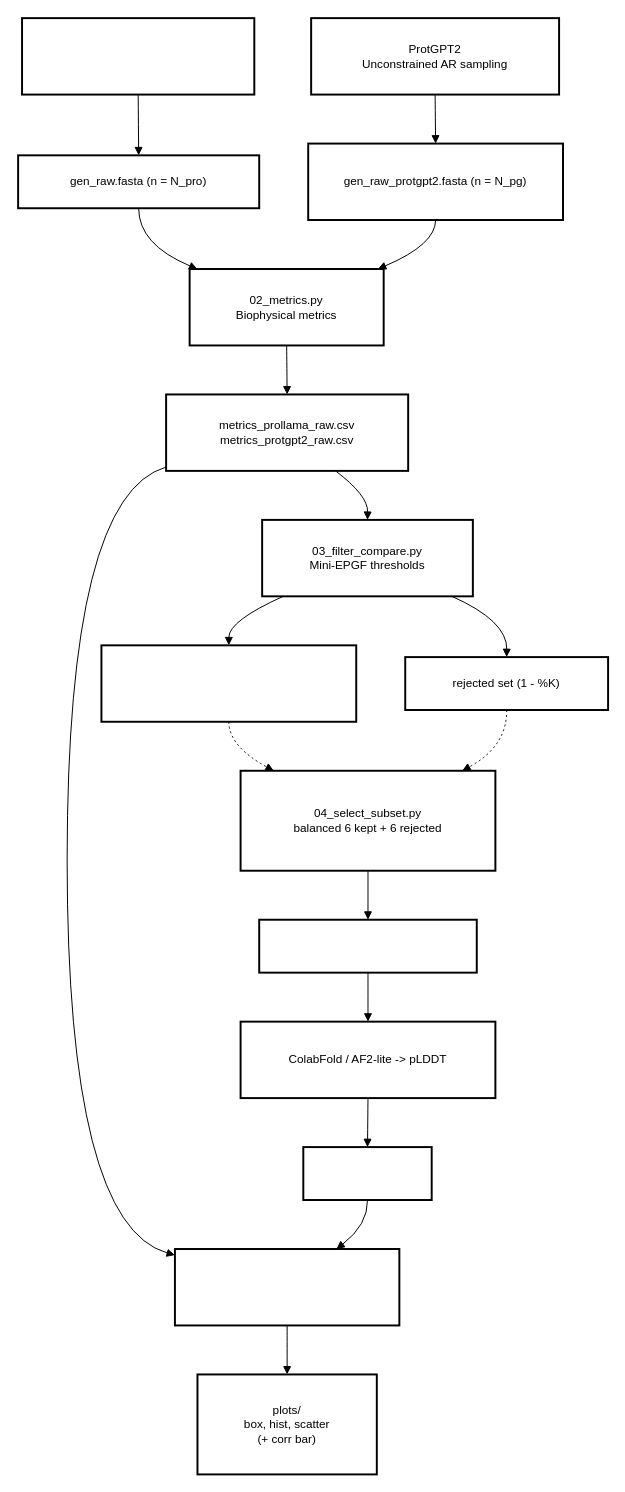
The diagram is 625 pixels wide and 1492 high, and some of its shapes have lost their labels. The centre of each missing label's shape, as x and y in pixels:
"05_compare_models.py stats + plots" goes at pixel 286 1287.
"gen_filtered.fasta (kept: %K)" goes at pixel 228 683.
"pLDDT.csv" goes at pixel 367 1173.
"ProLLaMA Generate by superfamily" goes at pixel 138 56.
"subset_colabfold.fasta" goes at pixel 367 945.
